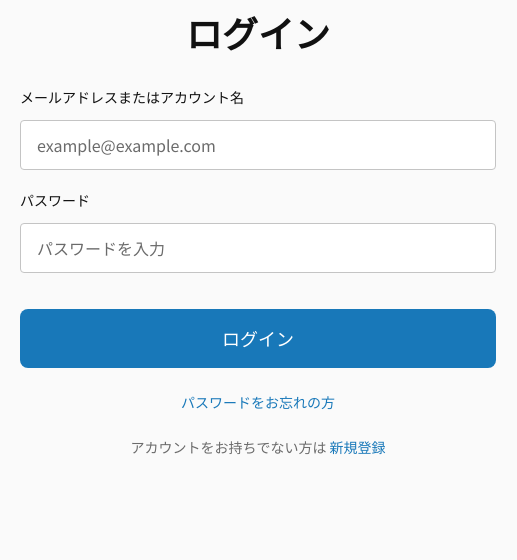
LoginForm › 第2要素（二段階認証） › totp_reused を受け取るとその内容を表示する
The width and height of the screenshot is (517, 560).
Step 1. Type "test@example.com" into the field labelled "メールアドレスまたはアカウント名" → (258, 145), box [20,120,496,170]
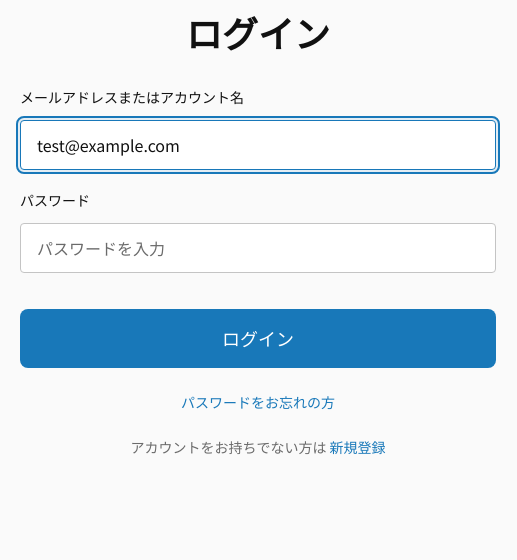
Step 2. Type "Password1" into the password field labelled "パスワード" → (258, 248), box [20,223,496,273]
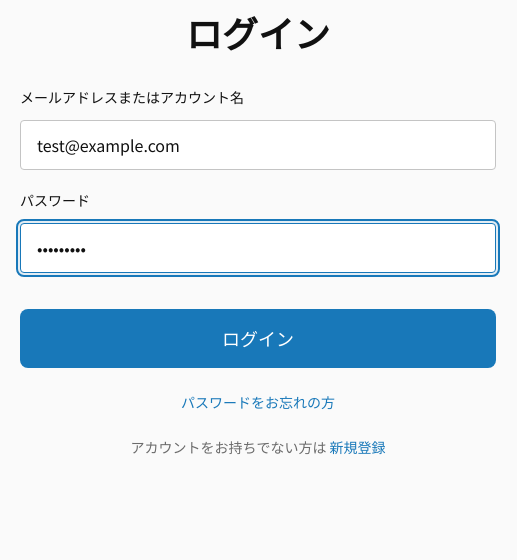
Step 3. Click the button "ログイン" → (258, 338), box [20,309,496,368]
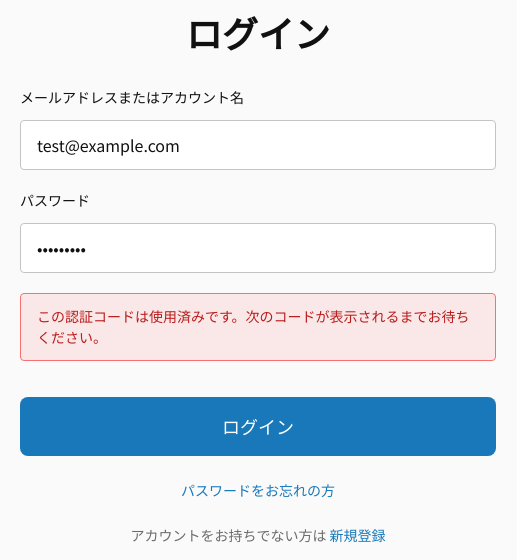
Expected: the message reads "この認証コードは使用済みです。次のコードが表示されるまでお待ちください。", [37,306,470,347]
